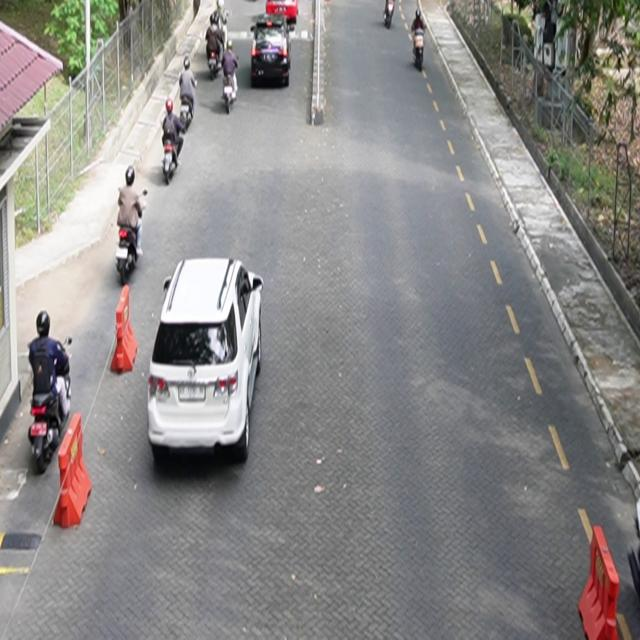car: (148, 257, 264, 464), (251, 14, 292, 88)
